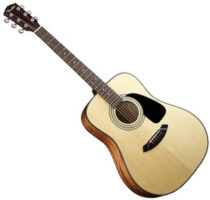guitar: (2, 3, 209, 199)
